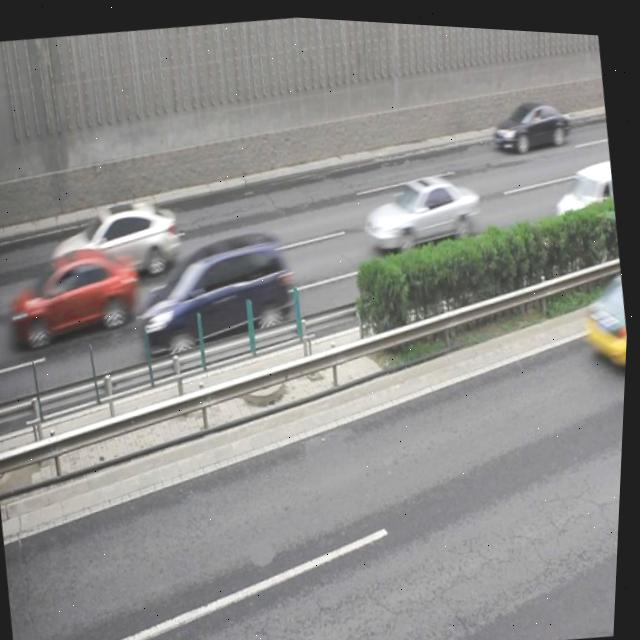car: (136, 217, 302, 357), (6, 240, 146, 354), (45, 191, 185, 291), (360, 159, 486, 246), (577, 260, 632, 361), (548, 148, 620, 223), (492, 88, 573, 149)
